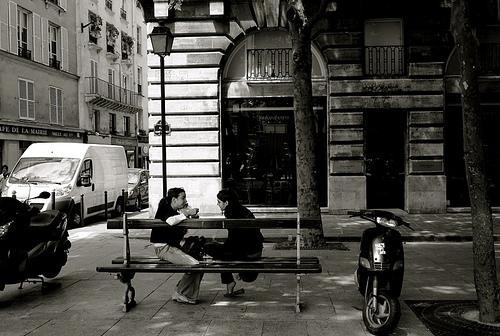car: (127, 168, 149, 211)
motorcycle: (347, 209, 416, 335), (0, 193, 70, 293)
truck: (3, 138, 131, 222)
